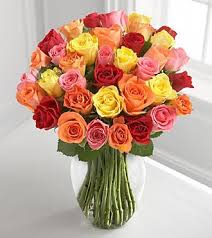lale: (119, 75, 152, 113), (56, 110, 85, 149), (88, 65, 126, 92), (91, 87, 123, 119), (31, 101, 61, 135), (105, 123, 136, 154), (146, 105, 176, 136), (128, 117, 155, 151), (63, 85, 93, 112), (148, 70, 174, 101), (56, 48, 91, 71), (34, 31, 69, 54), (86, 119, 111, 151), (71, 32, 100, 57), (113, 44, 142, 69), (116, 31, 152, 51), (37, 69, 63, 96), (167, 47, 193, 73), (95, 46, 122, 71), (171, 93, 195, 121), (56, 71, 89, 90), (16, 83, 41, 106), (137, 55, 155, 73), (176, 71, 194, 87)
